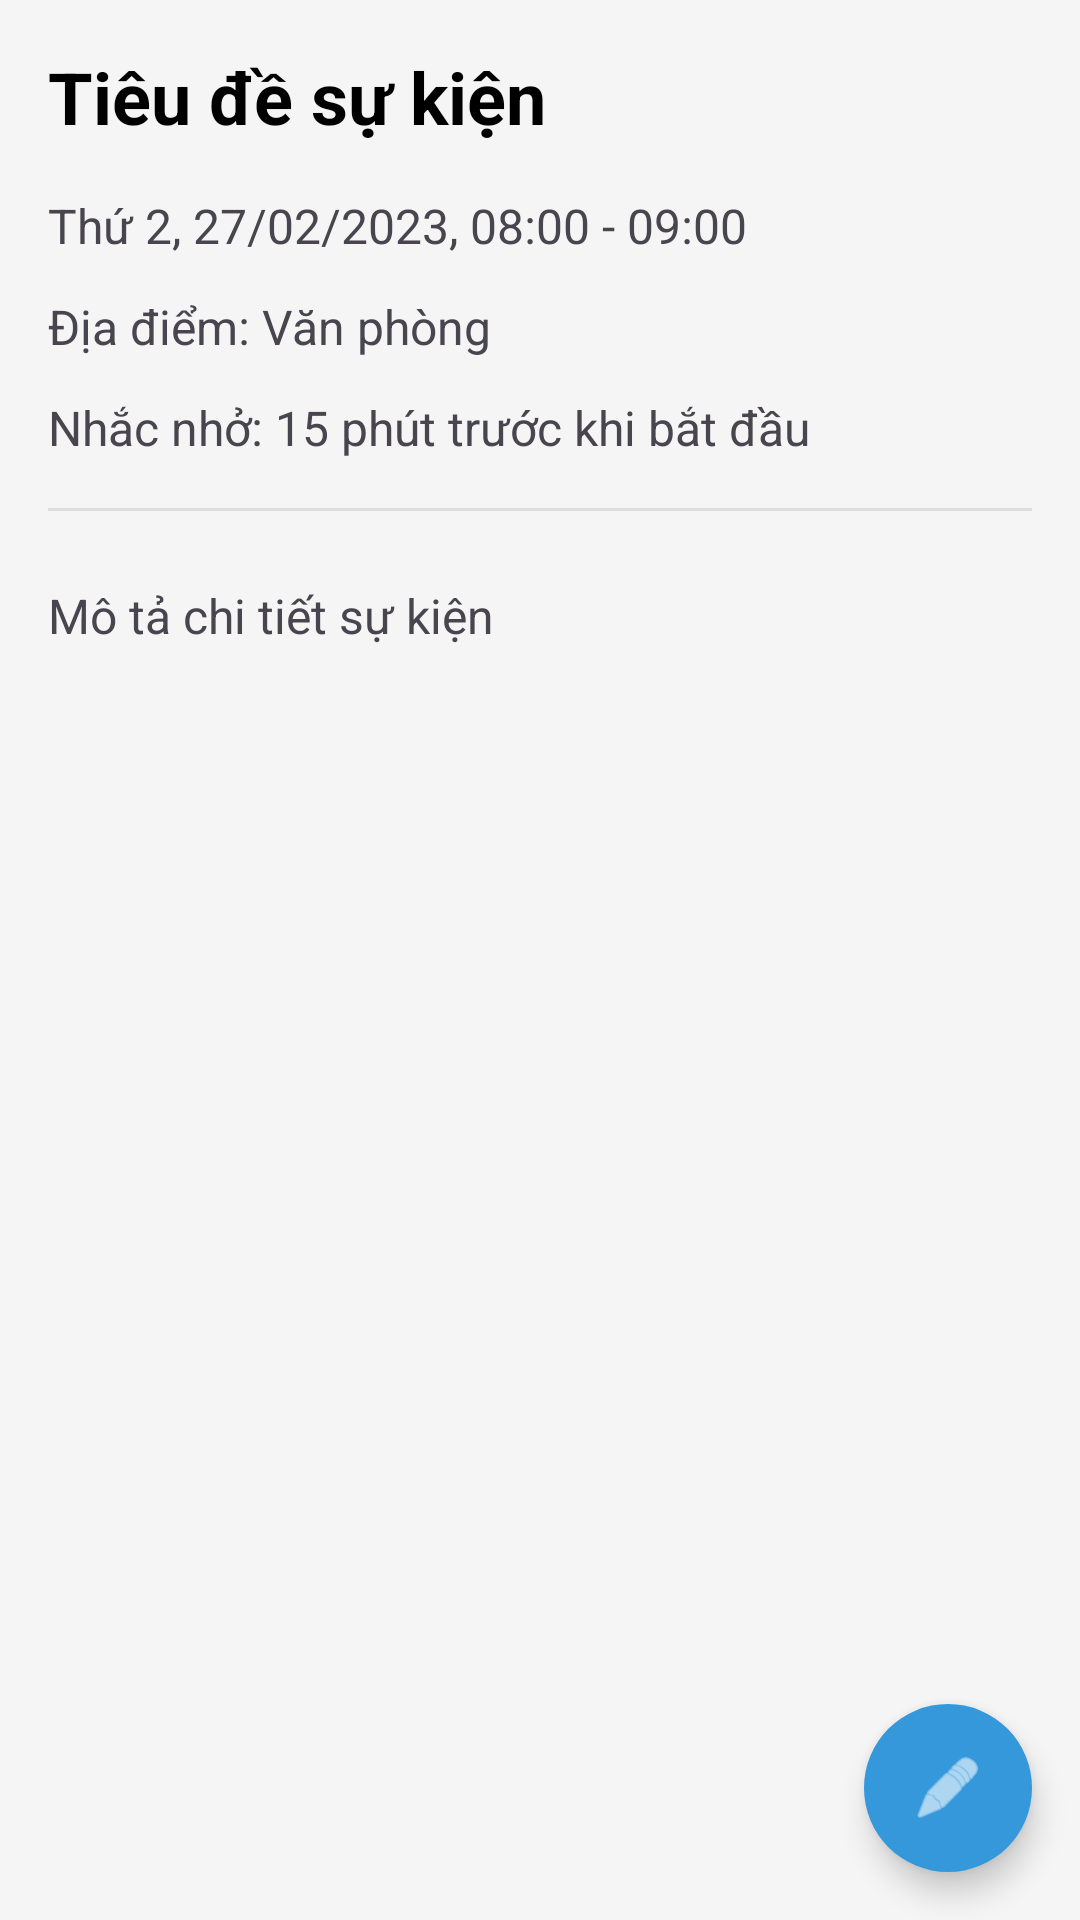

Icon click points for this 1080 × 1920 phone screenshot, format (x,y):
Chỉnh sửa sự kiện: (948,1788)
